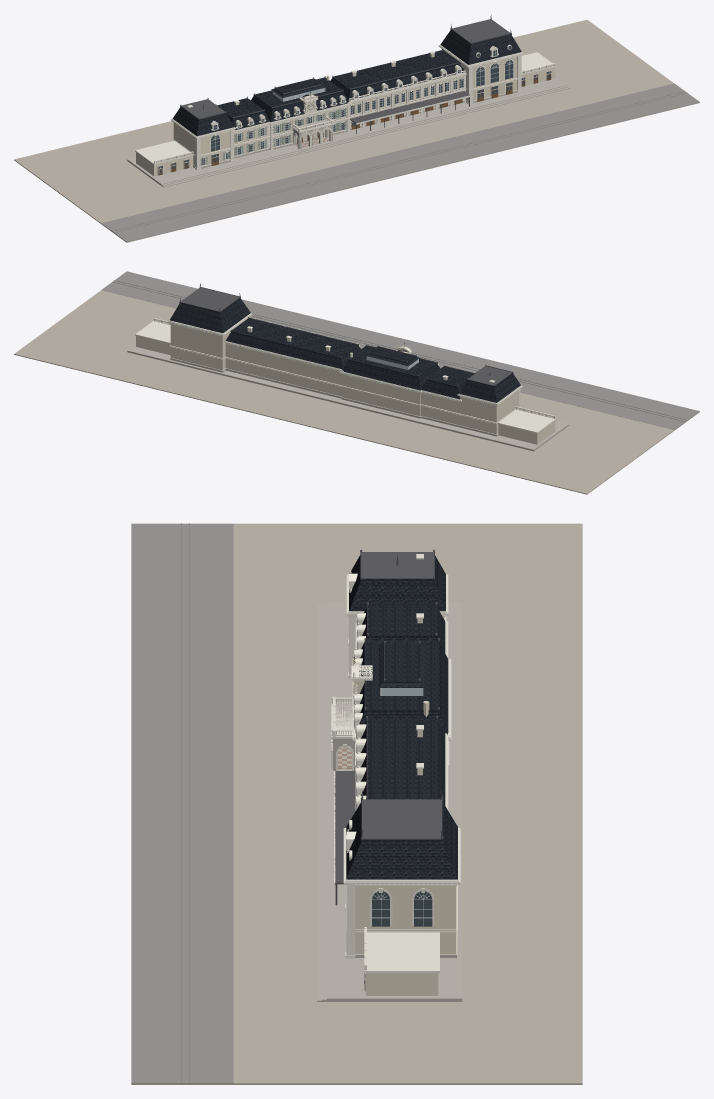
File: ga_ha_noi.glb
3 renders of one model, top to bottom at view 1: azimuth 30°, elevation 25°; view 2: azimuth 150°, elevation 25°; view 3: azimuth 270°, elevation 25°, orthographic. The views are drawn at different scales.
Parts seen in each view (by area): view 1: GaHaNoi_Game; view 2: GaHaNoi_Game; view 3: GaHaNoi_Game.
Part boxes in pixels (x1,y1,x2,y2): GaHaNoi_Game: (14,15,699,242); GaHaNoi_Game: (14,271,699,494); GaHaNoi_Game: (131,523,582,1084).
Bounding box in the file's own units: 220 × 23.5 × 74.99.
23 materials, 1 textured.
